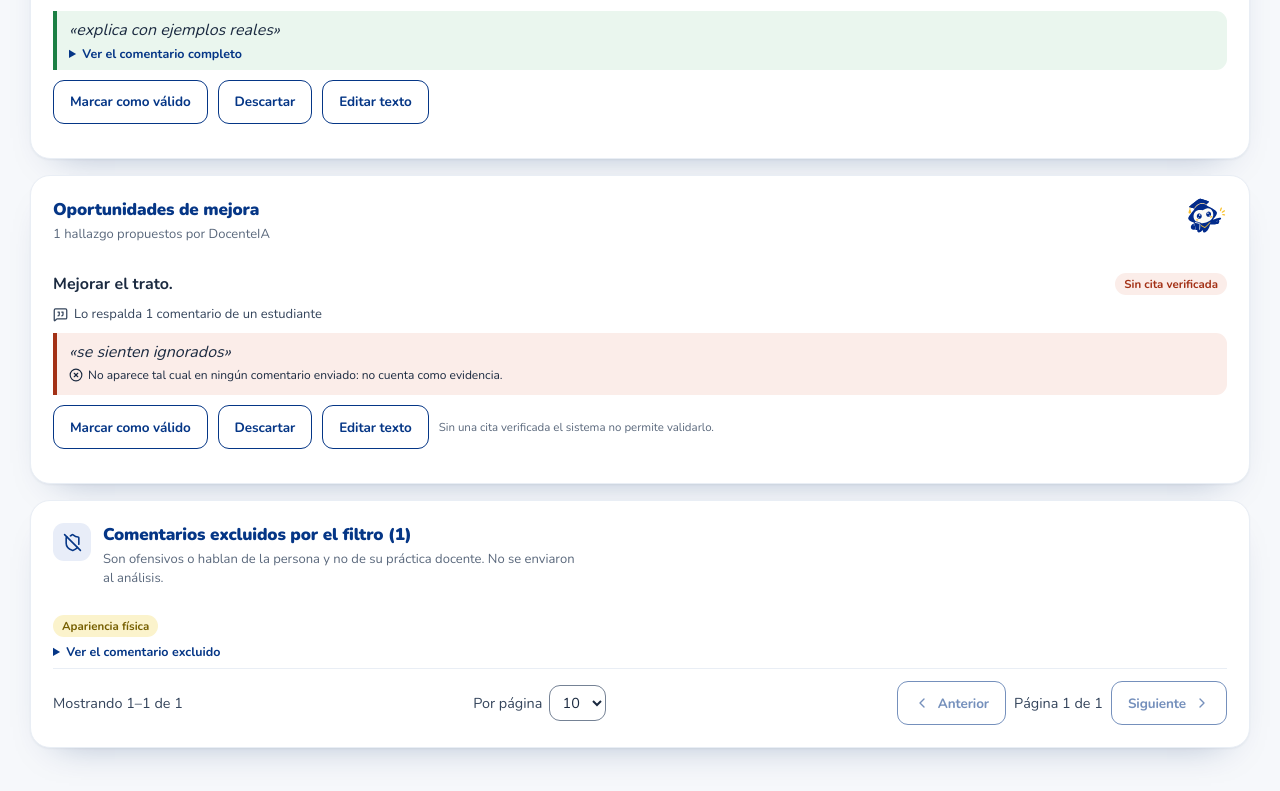
Analisis › validar un hallazgo sin cita verificada muestra el 422 del backend
(page scrolled)
What coordinates should you click on to do the following:
click the button "Marcar como válido" below "se sienten ignorados"
I would click on:
 (130, 427)
Its box is [53,405,208,449].
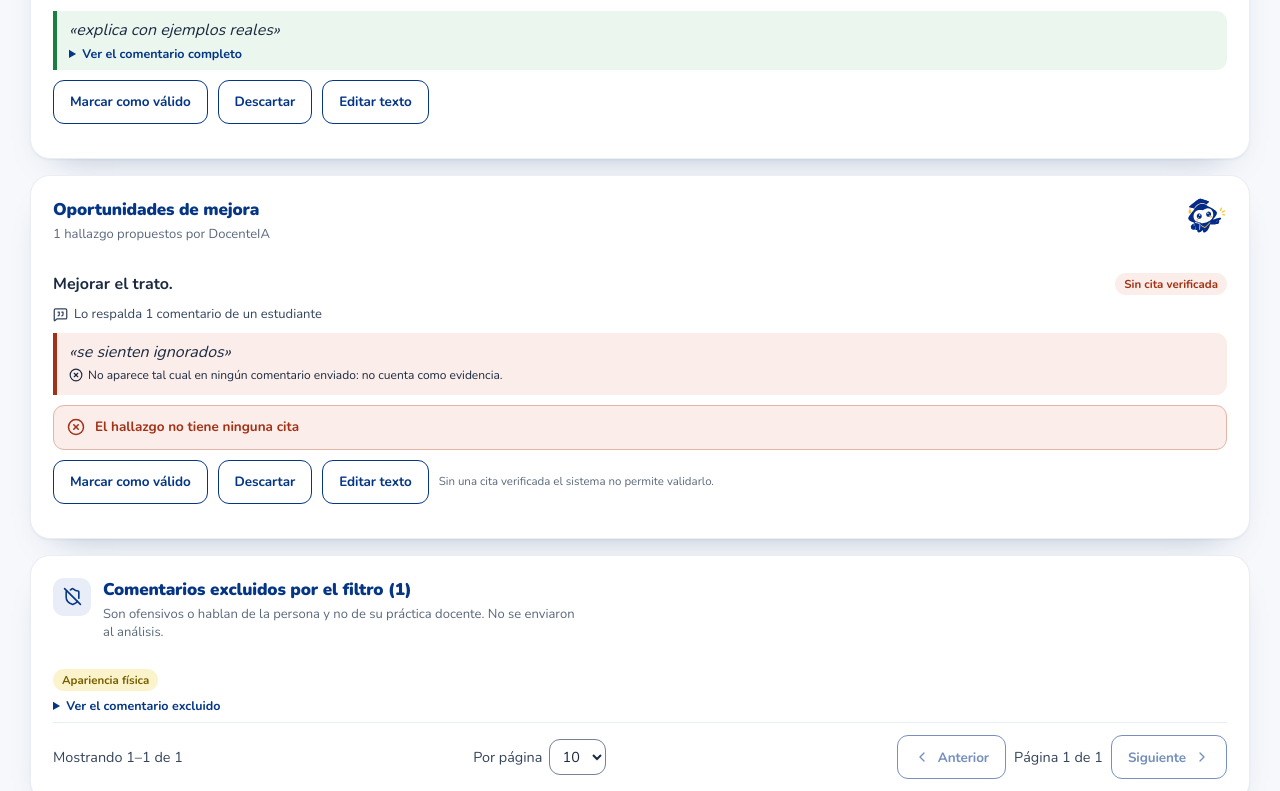
Check: the message reads "El hallazgo no tiene ninguna cita", box [95,417,299,436]
